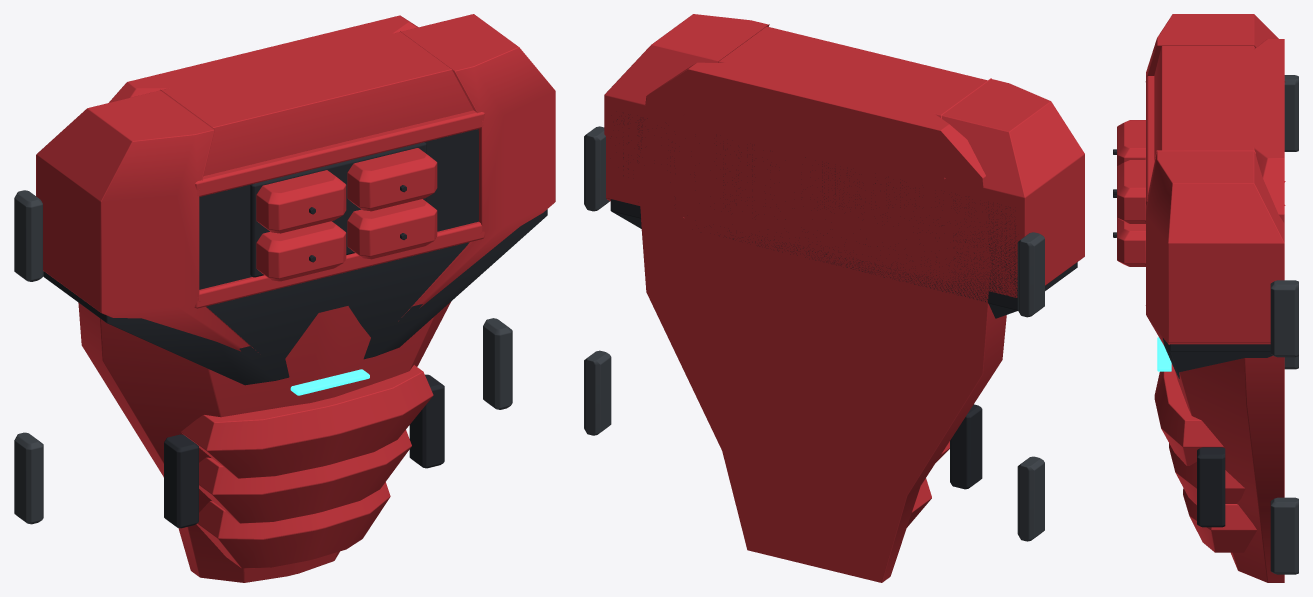
File: BodyFront_Set02_Bastion.fbx
3 renders of one model, left to right at view 1: azimuth 30°, elevation 25°; view 2: azimuth 150°, elevation 25°; view 3: azimuth 270°, elevation 25°, orthographic. The views are drawn at different scales.
Visible parts, largest first — view 1: BodyFront_Set02_Bastion; view 2: BodyFront_Set02_Bastion; view 3: BodyFront_Set02_Bastion.
Part boxes in pixels (x1,y1,x2,y2): BodyFront_Set02_Bastion: (14, 14, 555, 582); BodyFront_Set02_Bastion: (584, 14, 1084, 582); BodyFront_Set02_Bastion: (1113, 14, 1298, 582).
Size of the model in its own units: 1.07 by 1.06 by 0.394.
